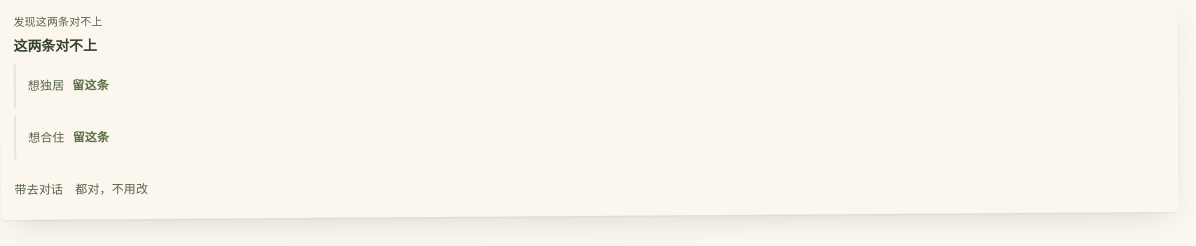
来信里从她的整理来的建议（路线图 C23） › 定夺矛盾：两条都对就「都对，不用改」
What coordinates should you click on to do the following:
click the button "都对，不用改"
I would click on:
 (112, 189)
Its box is [75, 167, 148, 211].
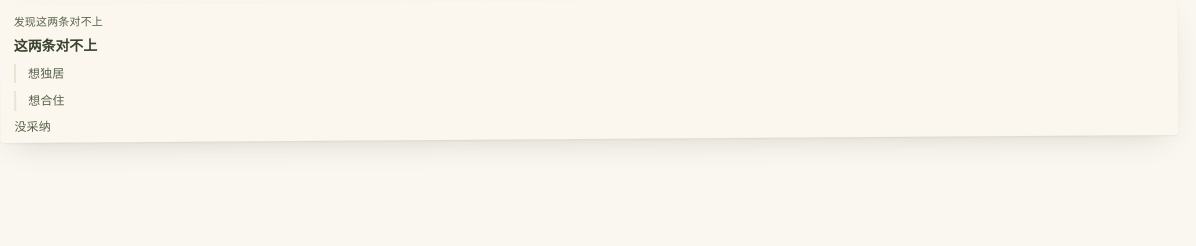
Expected: the text "没采纳" is shown, [14, 118, 51, 134]
